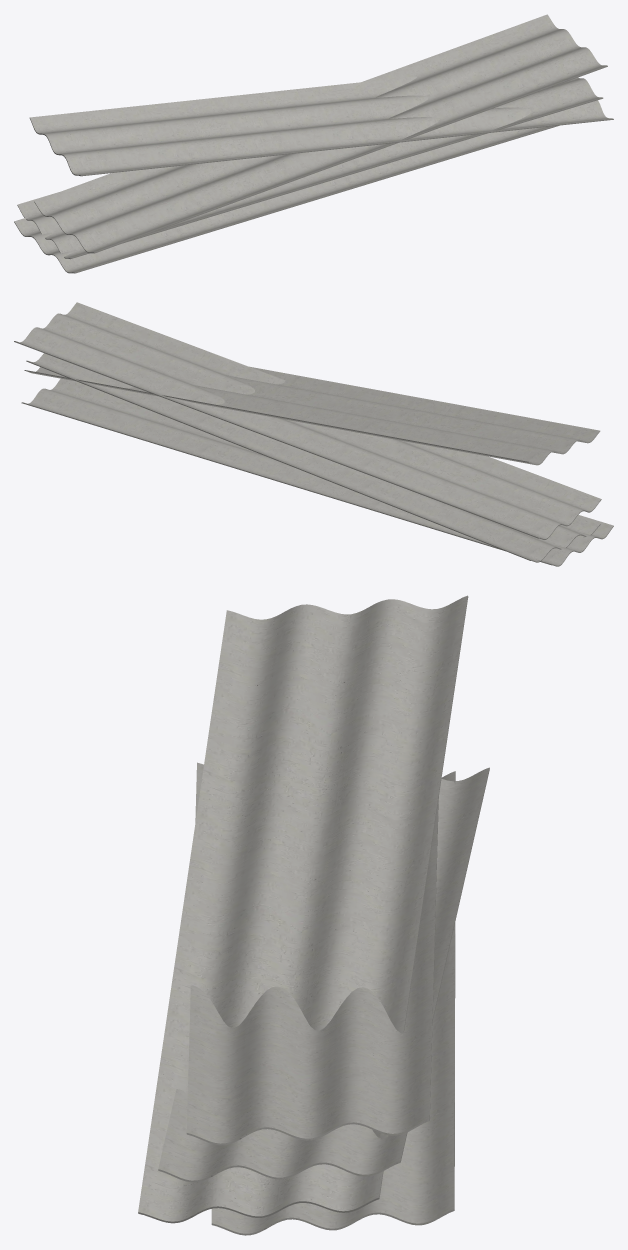
Rendered from COB-FIB-001_anim.glb.
3 views of the same model, one above another, from view 1: azimuth 30°, elevation 25°; view 2: azimuth 150°, elevation 25°; view 3: azimuth 270°, elevation 25° (orthographic). The views are drawn at different scales.
Visible parts, largest first — view 1: COB-FIB-001_anim2, COB-FIB-001_anim3, COB-FIB-001_anim0, COB-FIB-001_anim1; view 2: COB-FIB-001_anim2, COB-FIB-001_anim3, COB-FIB-001_anim1, COB-FIB-001_anim0; view 3: COB-FIB-001_anim3, COB-FIB-001_anim2, COB-FIB-001_anim1, COB-FIB-001_anim0.
Part boxes in pixels (x1=…): COB-FIB-001_anim2: x1=34, y1=14, x2=607, y2=253; COB-FIB-001_anim3: x1=29, y1=76, x2=613, y2=176; COB-FIB-001_anim0: x1=14, y1=125, x2=558, y2=273; COB-FIB-001_anim1: x1=17, y1=77, x2=603, y2=259; COB-FIB-001_anim2: x1=14, y1=302, x2=601, y2=539; COB-FIB-001_anim3: x1=24, y1=366, x2=600, y2=465; COB-FIB-001_anim1: x1=26, y1=353, x2=600, y2=562; COB-FIB-001_anim0: x1=21, y1=378, x2=613, y2=566; COB-FIB-001_anim3: x1=138, y1=595, x2=468, y2=1223; COB-FIB-001_anim2: x1=186, y1=762, x2=438, y2=1145; COB-FIB-001_anim1: x1=158, y1=767, x2=489, y2=1182; COB-FIB-001_anim0: x1=211, y1=771, x2=455, y2=1235.
Size of the model in its own units: 2.51 by 0.4984 by 0.7224.
Materials: 1 (1 with a texture image).
